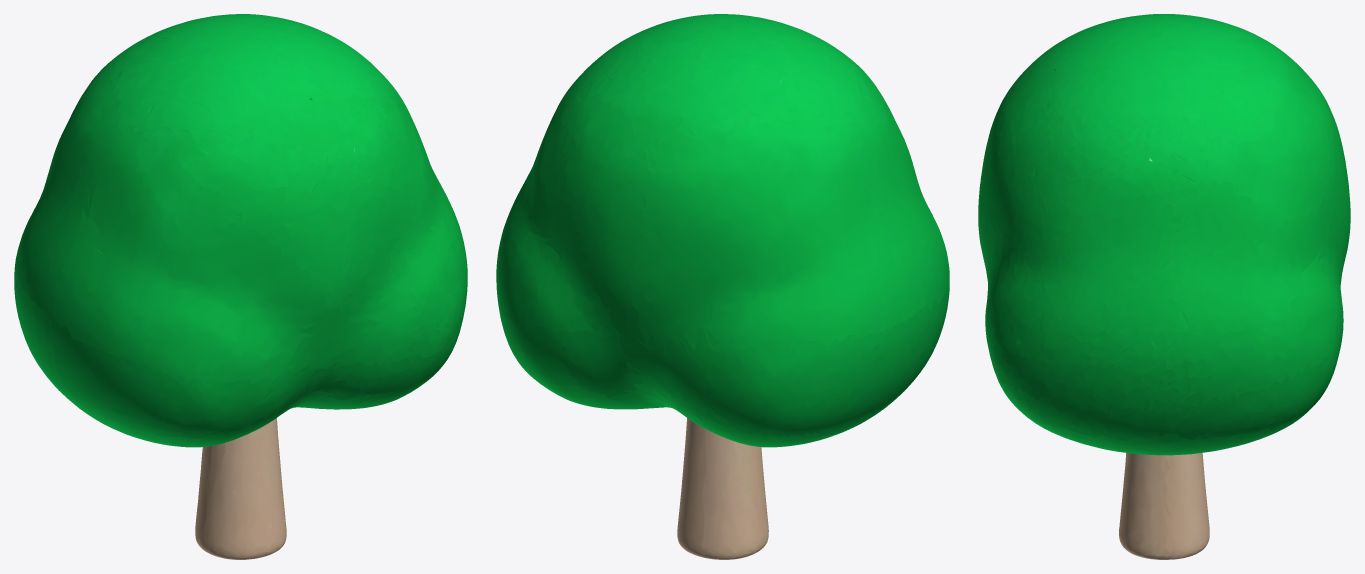
Rendered from tree.glb.
3 renders of one model, left to right at view 1: azimuth 30°, elevation 25°; view 2: azimuth 150°, elevation 25°; view 3: azimuth 270°, elevation 25°, orthographic.
Bounding box in the file's own units: 1.53 × 1.9 × 1.26.
1 material, 1 textured.
